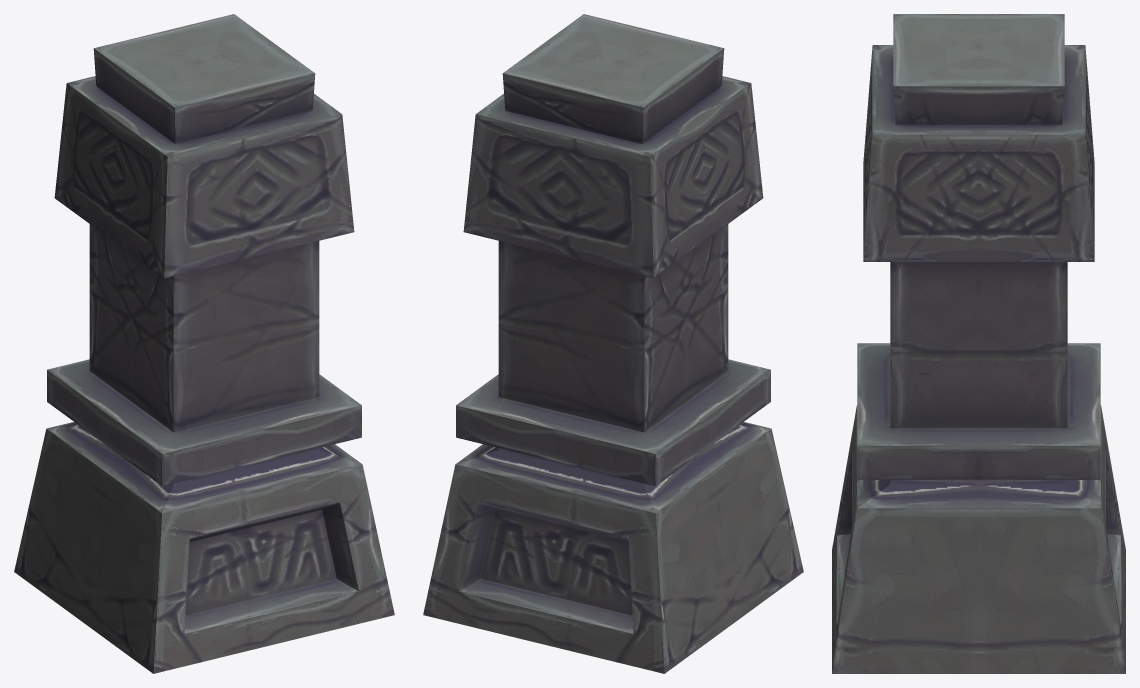
Rendered from cem_prop_pillar_01.fbx.
3 renders of one model, left to right at view 1: azimuth 30°, elevation 25°; view 2: azimuth 150°, elevation 25°; view 3: azimuth 270°, elevation 25°, orthographic. The views are drawn at different scales.
Visible parts, largest first — view 1: cem_prop_pillar_01; view 2: cem_prop_pillar_01; view 3: cem_prop_pillar_01.
Part boxes in pixels (<box>): cem_prop_pillar_01: <box>14,14,394,673</box>; cem_prop_pillar_01: <box>423,14,803,673</box>; cem_prop_pillar_01: <box>832,14,1125,673</box>.
Bounding box in the file's own units: 63.37 × 134 × 63.37.
